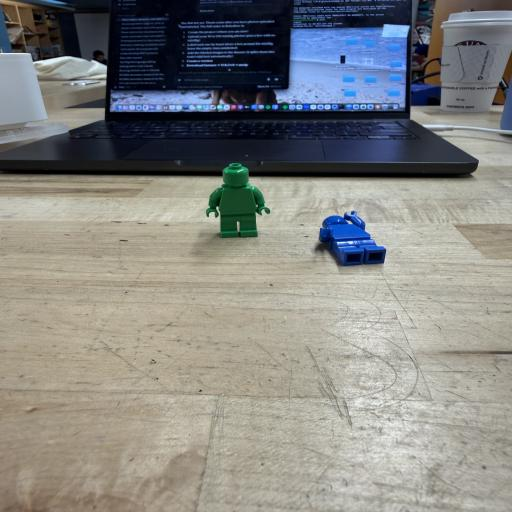blue-minifig: (319, 211, 386, 265)
green-minifig: (206, 163, 270, 238)
